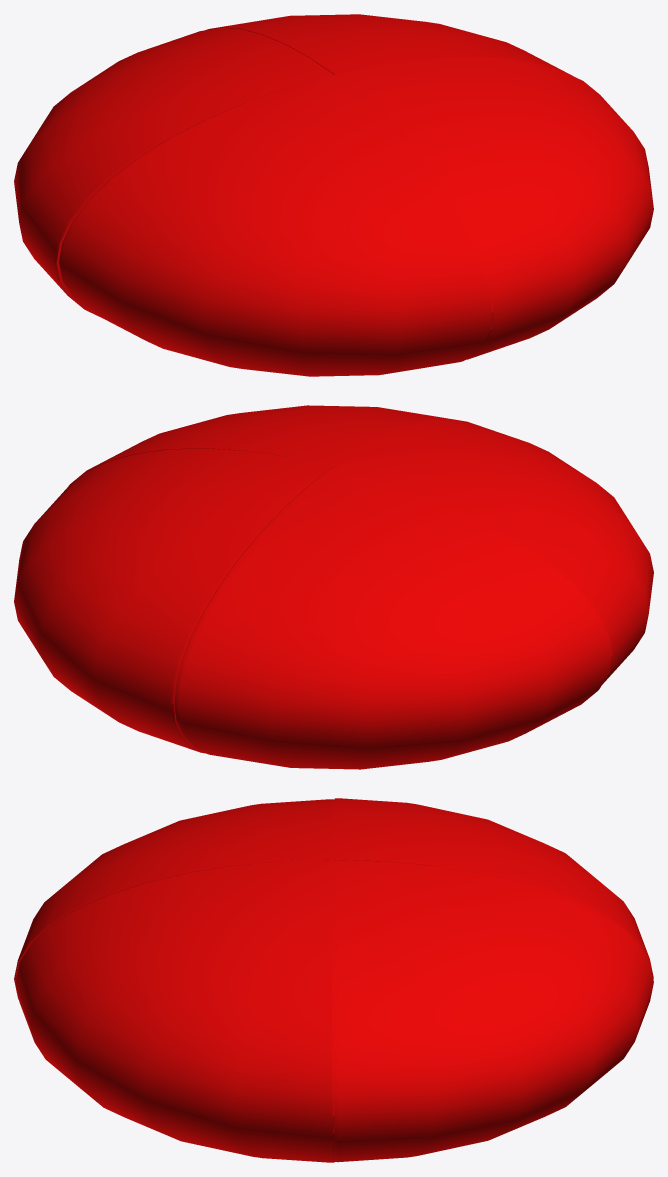
File: destructable.fbx
3 renders of one model, top to bottom at view 1: azimuth 30°, elevation 25°; view 2: azimuth 150°, elevation 25°; view 3: azimuth 270°, elevation 25°, orthographic.
Visible parts, largest first — view 1: pSphere4, pSphere5, pSphere3, pSphere6; view 2: pSphere3, pSphere6, pSphere4, pSphere5; view 3: pSphere5, pSphere6, pSphere3, pSphere4.
Boxes of the visible parts, bbox=[...] form: pSphere4: bbox=[59, 75, 493, 376]; pSphere5: bbox=[334, 56, 653, 359]; pSphere3: bbox=[14, 27, 333, 316]; pSphere6: bbox=[205, 14, 572, 75]; pSphere3: bbox=[174, 467, 612, 769]; pSphere6: bbox=[14, 448, 333, 753]; pSphere4: bbox=[334, 418, 653, 684]; pSphere5: bbox=[68, 405, 447, 486]; pSphere5: bbox=[15, 859, 334, 1162]; pSphere6: bbox=[334, 860, 653, 1162]; pSphere3: bbox=[334, 798, 653, 979]; pSphere4: bbox=[14, 799, 334, 999].
Size of the model in its own units: 28.35 by 11.75 by 28.2.
